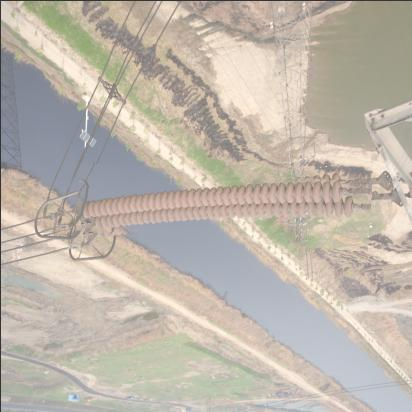insulator: (77, 168, 372, 247)
